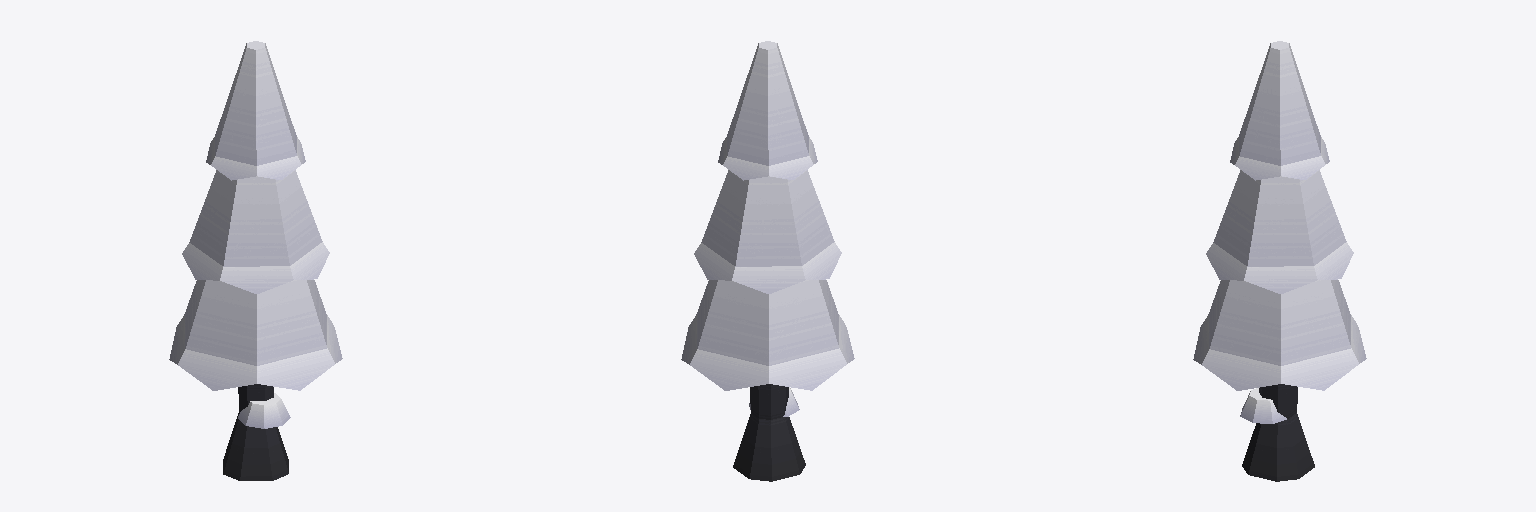
3 renders of one model, left to right at view 1: azimuth 30°, elevation 25°; view 2: azimuth 150°, elevation 25°; view 3: azimuth 270°, elevation 25°, orthographic.
Visible parts, largest first — view 1: tree.044; view 2: tree.044; view 3: tree.044.
Boxes of the visible parts, <box> form: tree.044: <box>169,41,342,480</box>; tree.044: <box>681,41,854,481</box>; tree.044: <box>1193,41,1366,481</box>.
Bounding box in the file's own units: 1.36 × 3.47 × 1.3.
Materials: 1 (1 with a texture image).